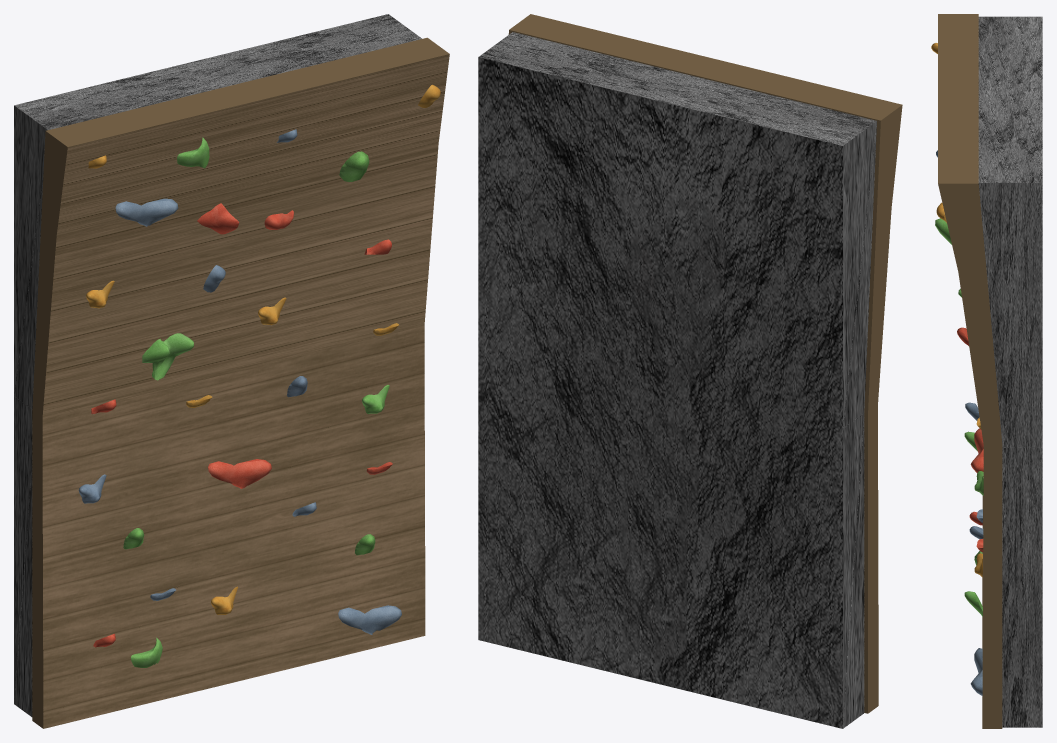
Rendered from ClimbingWall.fbx.
3 renders of one model, left to right at view 1: azimuth 30°, elevation 25°; view 2: azimuth 150°, elevation 25°; view 3: azimuth 270°, elevation 25°, orthographic. The views are drawn at different scales.
Parts seen in each view (by area): view 1: pCube1, pCube2, shard6, shard14, shard17, shard16, shard25; view 2: pCube2, pCube1; view 3: pCube2, pCube1, shard17, shard14, shard33, shard7.
Boxes of the visible parts, x1=… form: pCube1: x1=32, y1=37, x2=449, y2=728; pCube2: x1=14, y1=14, x2=421, y2=716; shard6: x1=142, y1=333, x2=193, y2=380; shard14: x1=208, y1=459, x2=271, y2=488; shard17: x1=338, y1=605, x2=401, y2=634; shard16: x1=115, y1=198, x2=178, y2=226; shard25: x1=197, y1=203, x2=239, y2=234; pCube2: x1=478, y1=32, x2=876, y2=728; pCube1: x1=508, y1=14, x2=902, y2=713; pCube2: x1=978, y1=16, x2=1042, y2=727; pCube1: x1=938, y1=14, x2=1002, y2=728; shard17: x1=970, y1=648, x2=982, y2=695; shard14: x1=970, y1=428, x2=983, y2=472; shard33: x1=964, y1=591, x2=982, y2=616; shard7: x1=935, y1=218, x2=951, y2=244.
Bounding box in the file's own units: 5 × 7.5 × 1.39.
